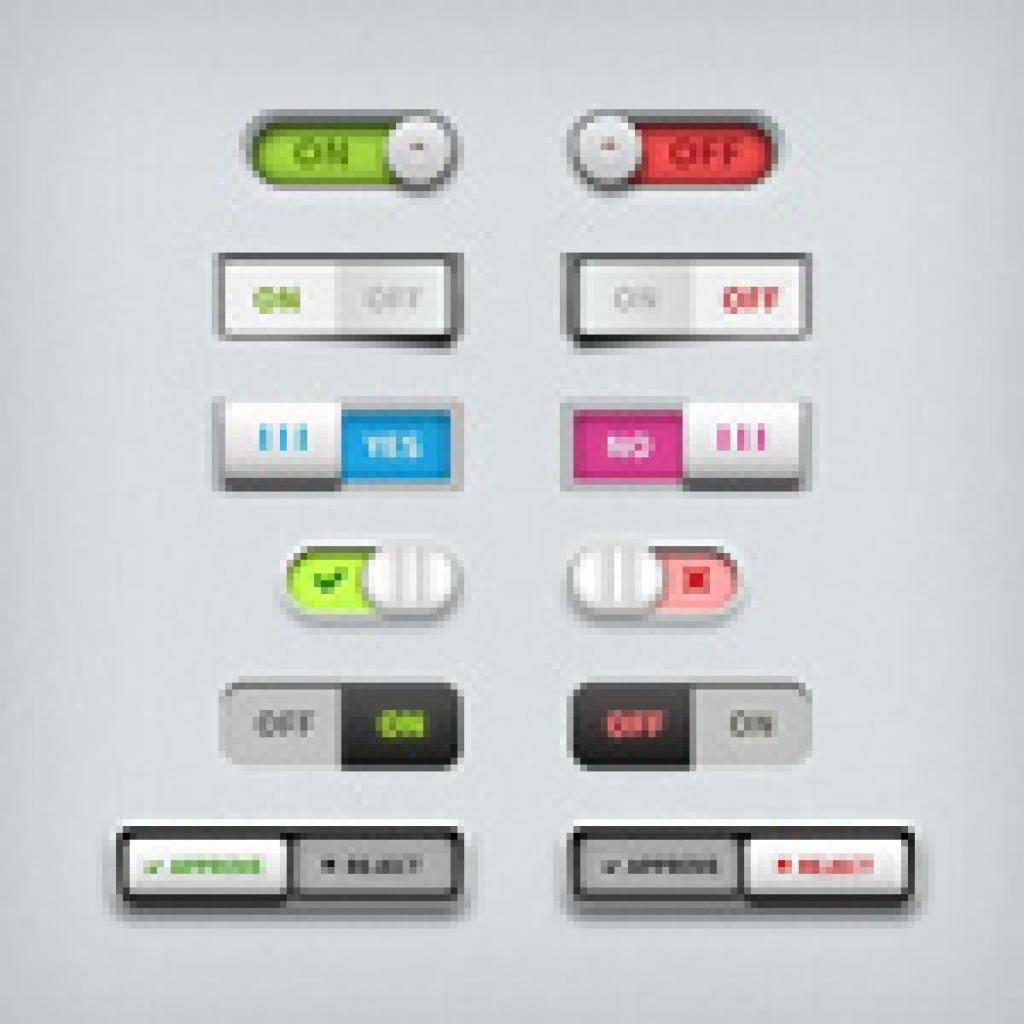switch: (217, 398, 465, 495), (561, 398, 814, 490), (571, 680, 815, 769), (224, 682, 465, 772), (239, 109, 467, 200), (562, 106, 793, 195), (275, 532, 468, 638), (552, 542, 756, 633)
